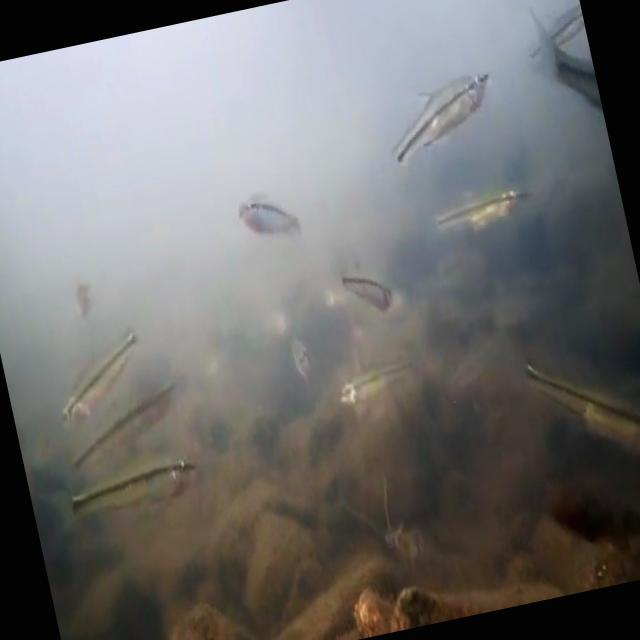Cakil Baligi: (373, 60, 507, 178), (58, 452, 210, 536), (414, 182, 534, 245), (332, 350, 420, 410), (232, 184, 304, 250)
